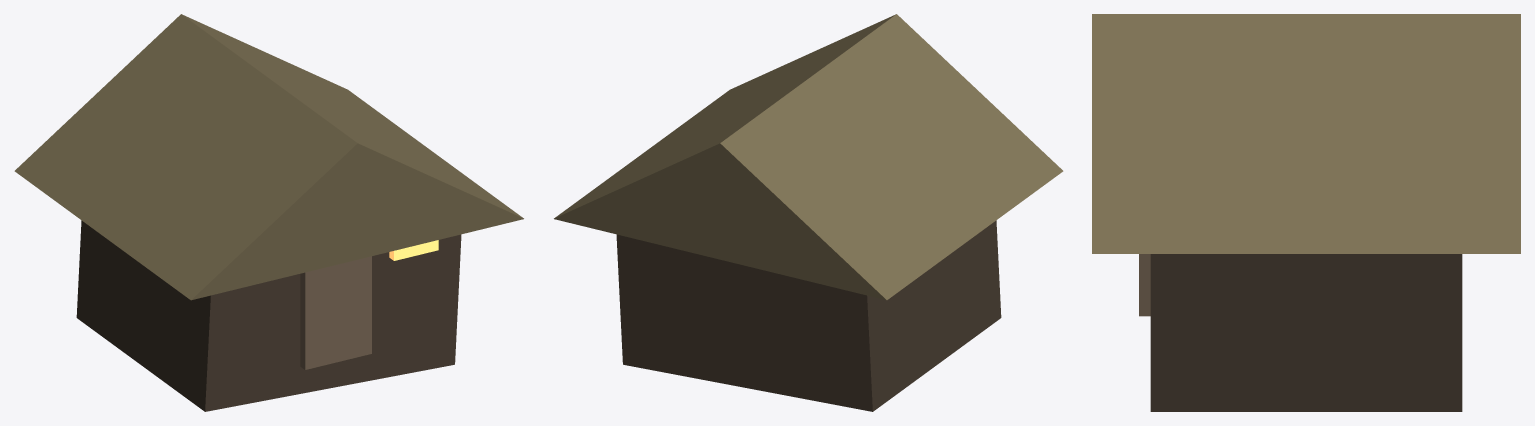
Rendered from hovel.glb.
3 views of the same model, side by side, from view 1: azimuth 30°, elevation 25°; view 2: azimuth 150°, elevation 25°; view 3: azimuth 270°, elevation 25° (orthographic). The views are drawn at different scales.
Visible parts, largest first — view 1: hovel; view 2: hovel; view 3: hovel.
Part boxes in pixels (left/top/right/bottom): hovel: left=14, top=14, right=523, bottom=411; hovel: left=554, top=14, right=1063, bottom=411; hovel: left=1092, top=14, right=1520, bottom=411.
Bounding box in the file's own units: 1.2 × 0.9232 × 1.1.
